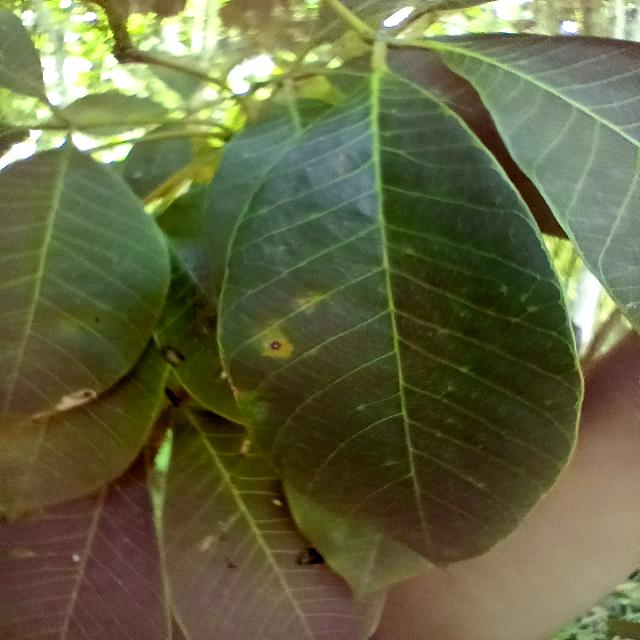Colletotrichum: (270, 341, 282, 350)
